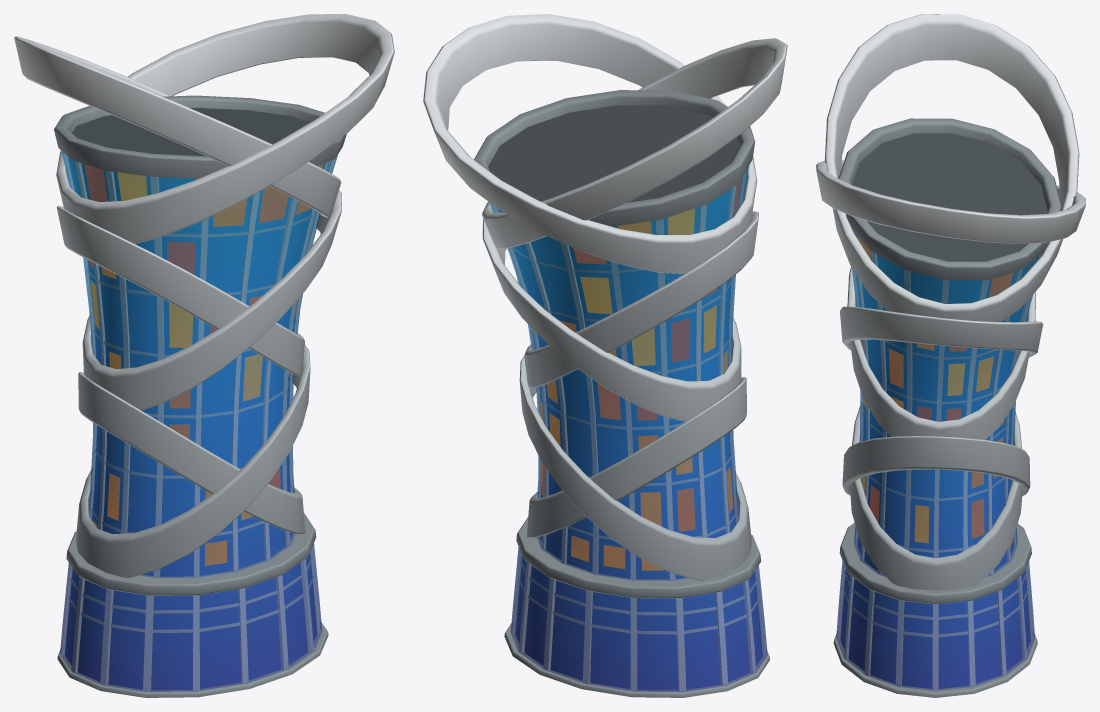
File: Regular_Building_TwistedTower_Large.glb
The picture shows the model from 3 angles, left to right: view 1: azimuth 30°, elevation 25°; view 2: azimuth 150°, elevation 25°; view 3: azimuth 270°, elevation 25°; orthographic projection. The views are drawn at different scales.
Parts seen in each view (by area): view 1: Regular_Building_TwistedTower_Large, Regular_Building_TwistedTower_Large_NightLight; view 2: Regular_Building_TwistedTower_Large, Regular_Building_TwistedTower_Large_NightLight; view 3: Regular_Building_TwistedTower_Large, Regular_Building_TwistedTower_Large_NightLight.
Boxes of the visible parts, bbox=[...] form: Regular_Building_TwistedTower_Large: bbox=[14, 14, 394, 697]; Regular_Building_TwistedTower_Large_NightLight: bbox=[84, 163, 323, 565]; Regular_Building_TwistedTower_Large: bbox=[423, 14, 787, 697]; Regular_Building_TwistedTower_Large_NightLight: bbox=[531, 178, 742, 570]; Regular_Building_TwistedTower_Large: bbox=[816, 14, 1085, 697]; Regular_Building_TwistedTower_Large_NightLight: bbox=[856, 235, 1018, 547].
Bounding box in the file's own units: 29.88 × 53.17 × 22.9.
Materials: 3 (3 with a texture image).
